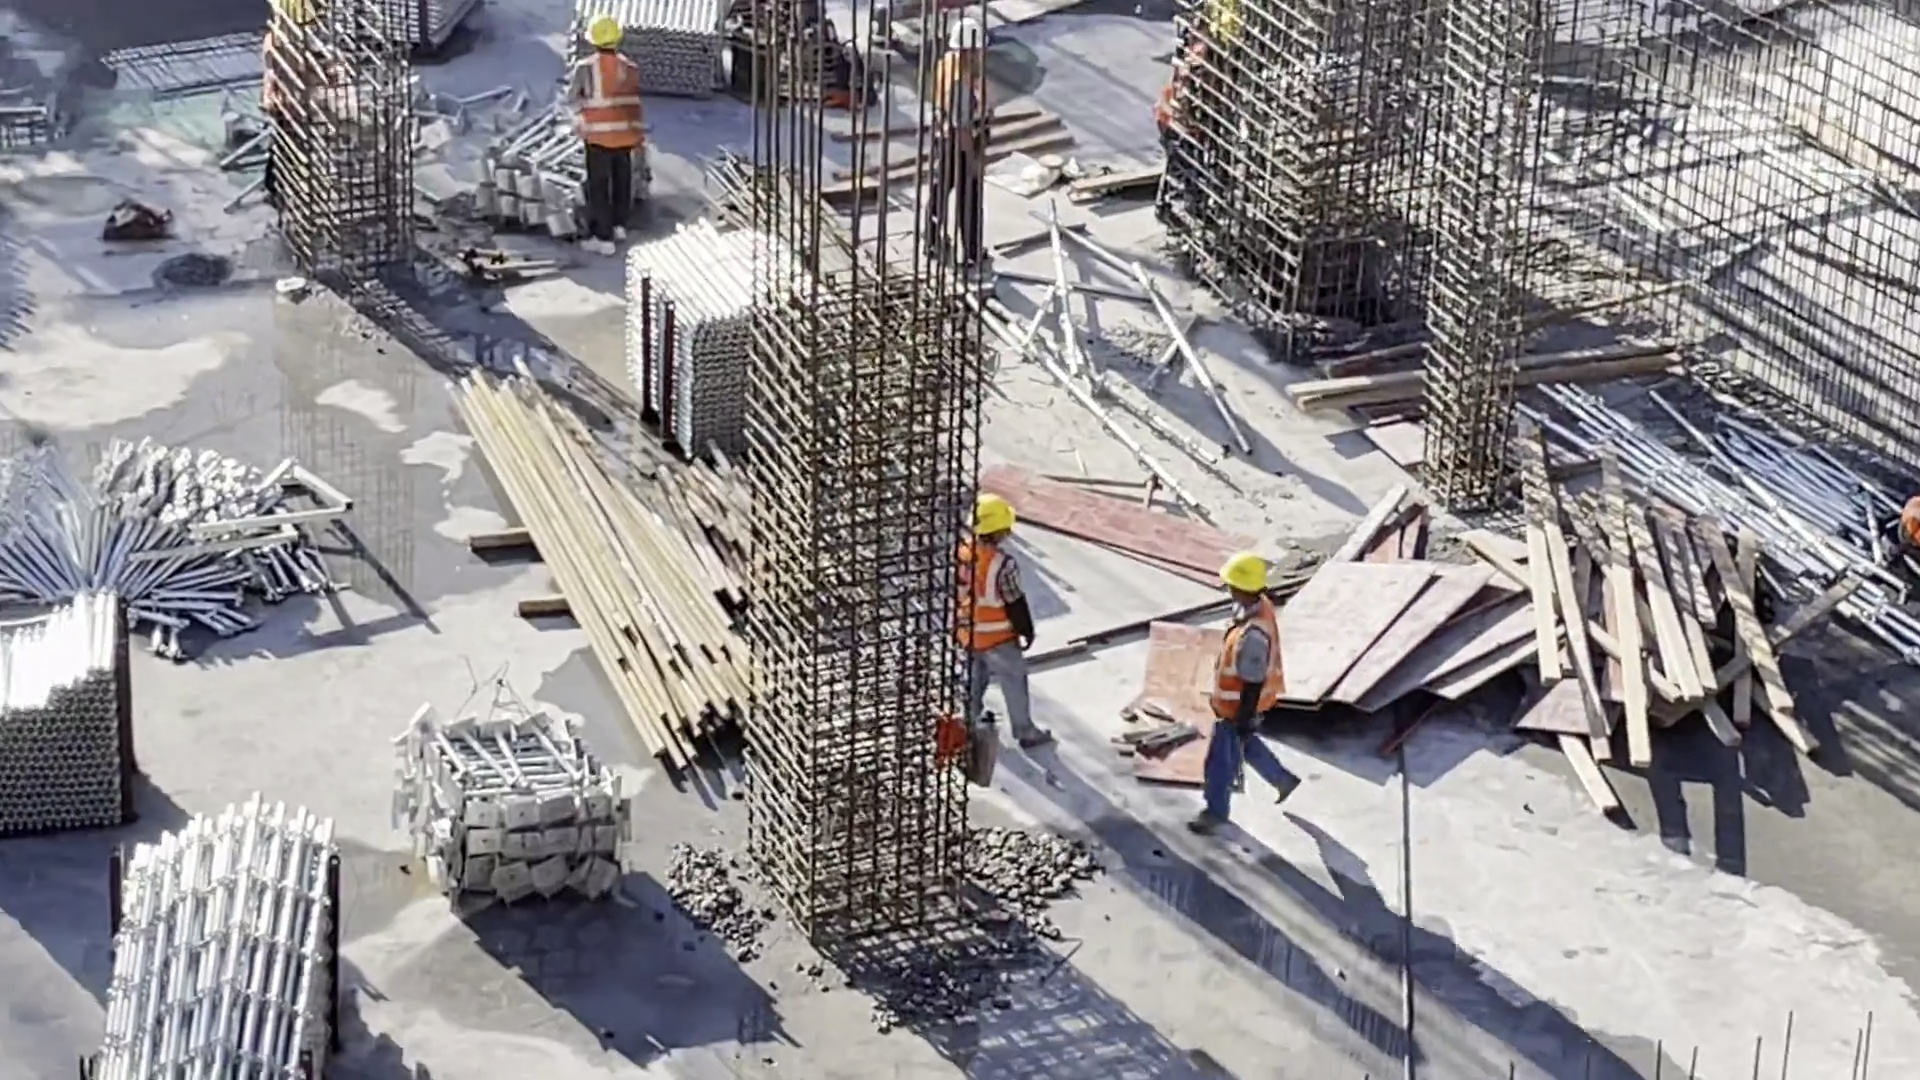board: (1001, 489, 1529, 782)
helmet: (1218, 556, 1272, 608), (576, 11, 622, 50), (970, 493, 1013, 534)
person: (944, 500, 1066, 753), (915, 6, 1010, 278), (1212, 545, 1301, 828), (556, 13, 652, 249)
rebar: (449, 356, 758, 780)
scaffold: (82, 807, 345, 1080), (609, 207, 844, 450), (393, 690, 622, 926), (1, 587, 164, 835), (580, 1, 731, 120)
vest: (939, 542, 1030, 657), (1202, 622, 1294, 724), (570, 56, 635, 159)
